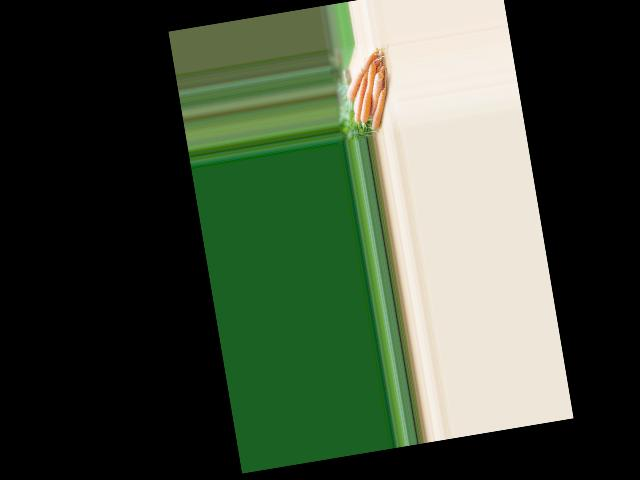carrot: (366, 83, 399, 131)
